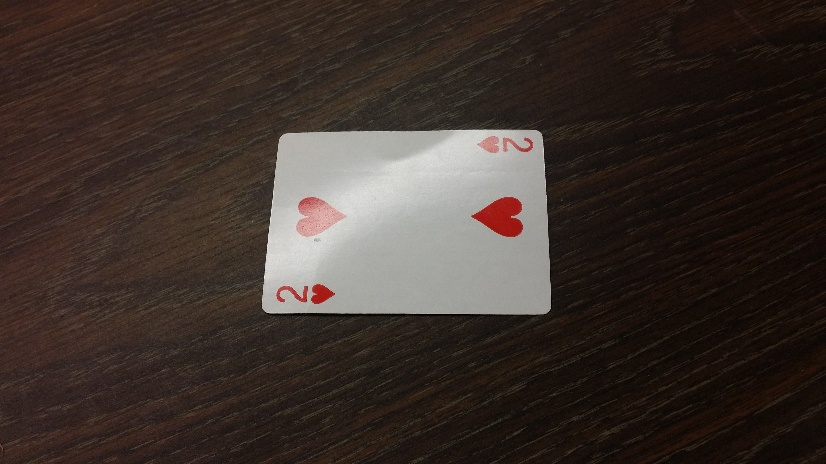H2: (272, 277, 338, 308), (476, 131, 537, 160)
